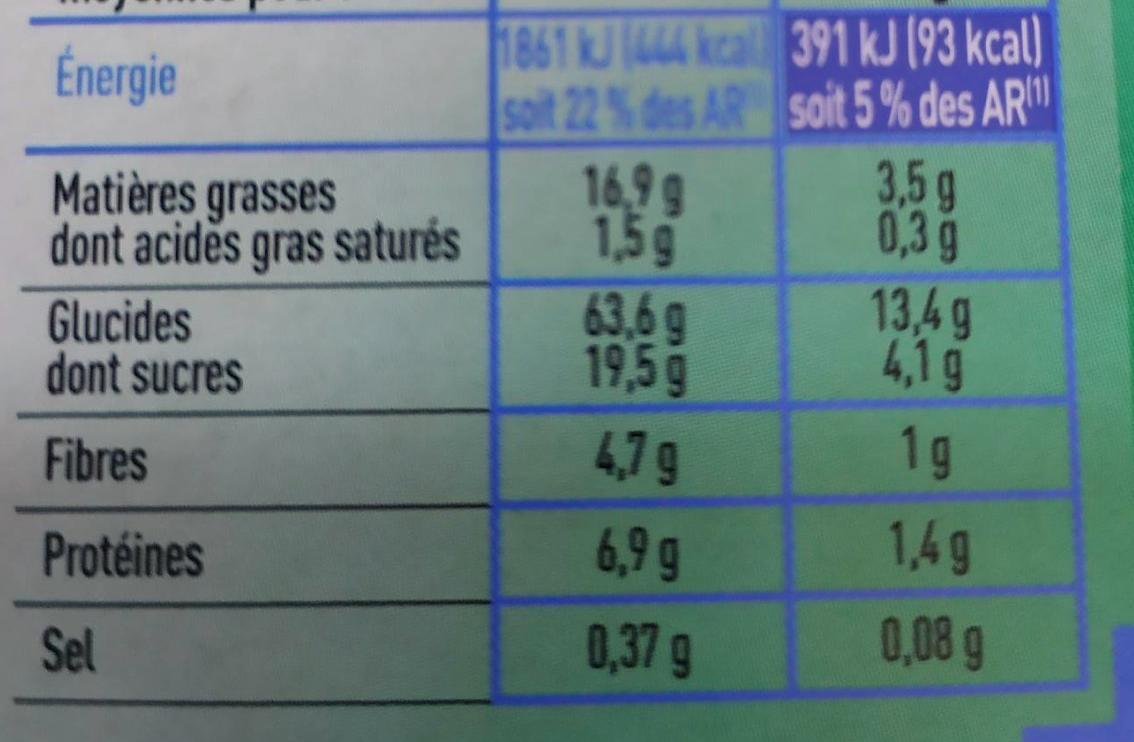column: (43, 54, 462, 692), (494, 26, 764, 682), (786, 18, 1046, 669)
line: (39, 24, 1046, 123), (51, 340, 974, 405), (44, 616, 986, 679), (47, 524, 976, 585), (51, 431, 971, 484), (50, 221, 956, 264), (52, 172, 964, 211), (51, 299, 973, 335)
table: (19, 16, 1092, 705)
